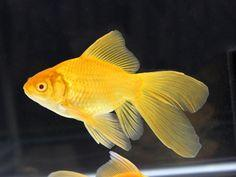goldfish: (21, 21, 212, 172)
